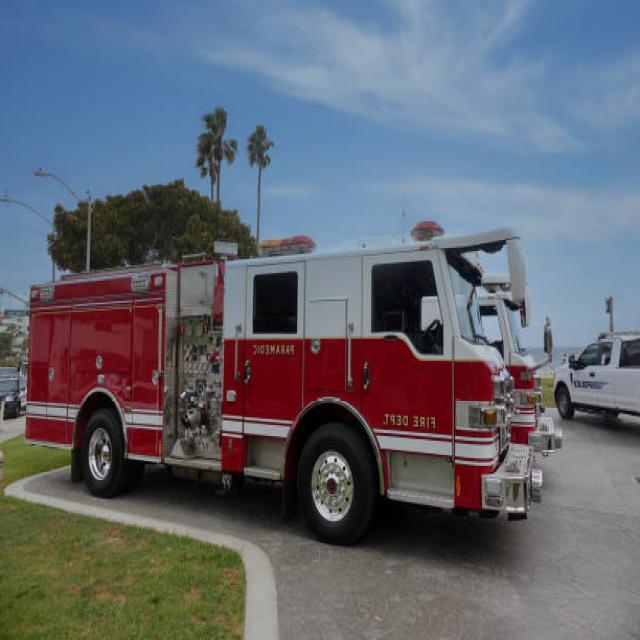emergency: (26, 231, 539, 543)
